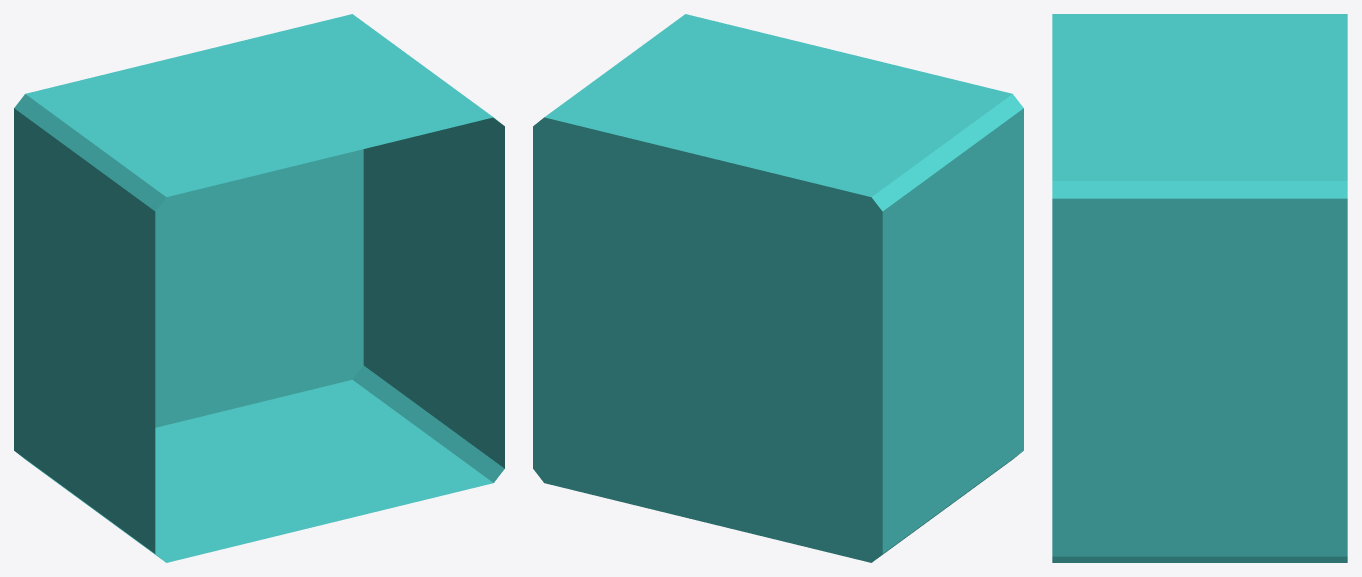
The model's file is Water 01.FBX.
3 views of the same model, side by side, from view 1: azimuth 30°, elevation 25°; view 2: azimuth 150°, elevation 25°; view 3: azimuth 270°, elevation 25° (orthographic). The views are drawn at different scales.
Parts seen in each view (by area): view 1: Water 01; view 2: Water 01; view 3: Water 01.
Boxes of the visible parts, x1=… form: Water 01: x1=14, y1=14, x2=504, y2=562; Water 01: x1=533, y1=14, x2=1023, y2=562; Water 01: x1=1052, y1=14, x2=1347, y2=562.
Size of the model in its own units: 100 by 100 by 70.
Materials: 1 (1 with a texture image).
